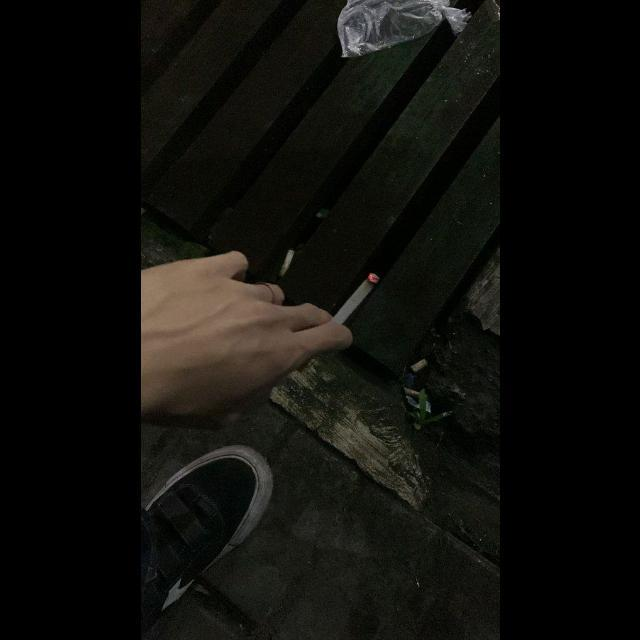rokok: (318, 263, 379, 323)
